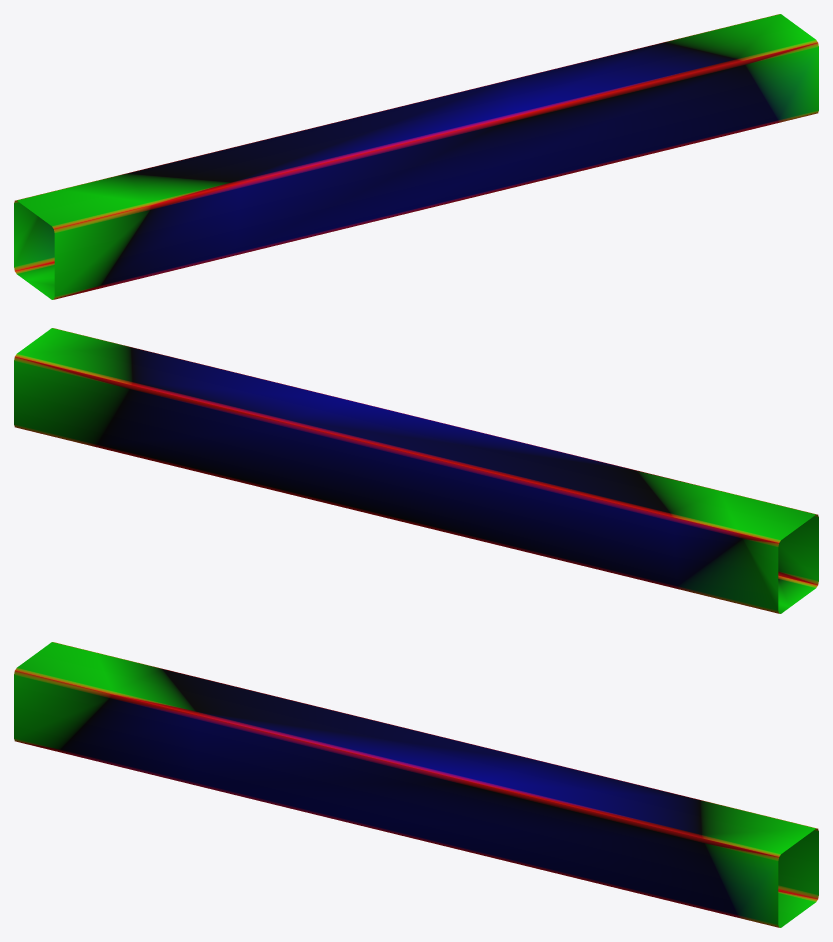
Rendered from CeilColumn.fbx.
3 renders of one model, top to bottom at view 1: azimuth 30°, elevation 25°; view 2: azimuth 150°, elevation 25°; view 3: azimuth 330°, elevation 25°, orthographic.
Parts seen in each view (by area): view 1: CeilColumn; view 2: CeilColumn; view 3: CeilColumn.
Part boxes in pixels (x1,y1,x2,y2): CeilColumn: [14, 14, 818, 299]; CeilColumn: [14, 328, 818, 613]; CeilColumn: [14, 642, 818, 927].
Bounding box in the file's own units: 1086 × 100 × 100.
